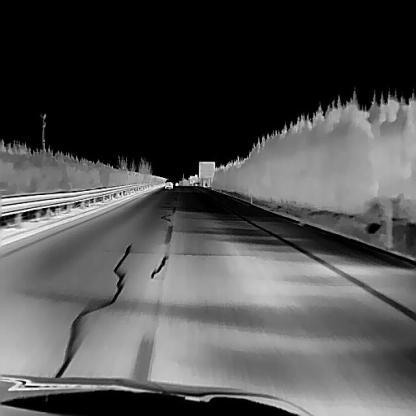car: (164, 177, 172, 188)
